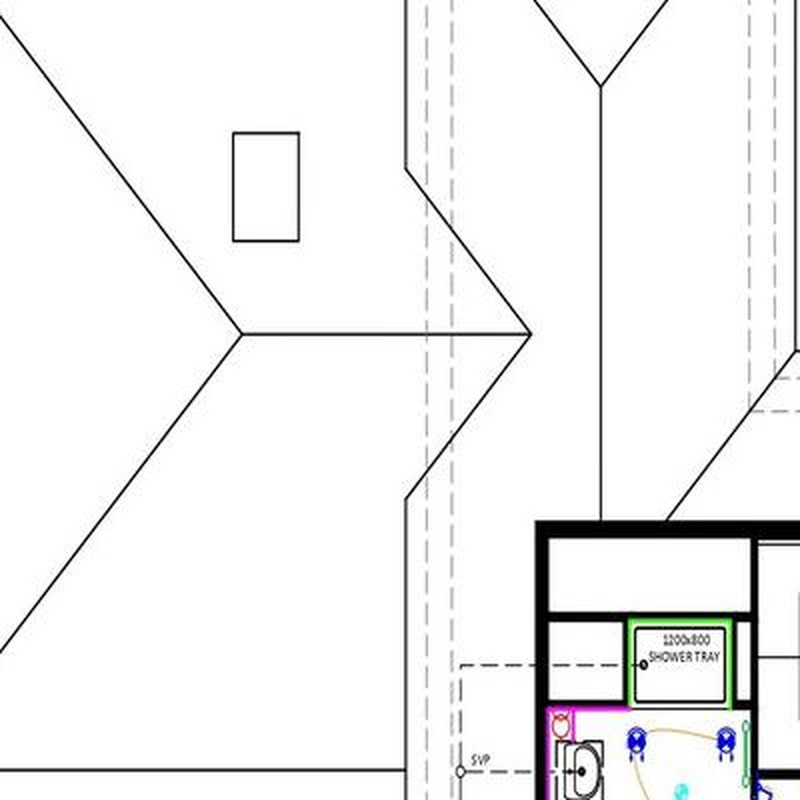Ceiling Mounted Continuous Extract FanWith Boost Mode Activated By Light Switch: (673, 783, 687, 799)
Full Height Tiling: (628, 619, 732, 710)
Light Switch: (758, 785, 775, 800)
Low Energy Downlighter: (626, 727, 647, 763), (716, 727, 736, 763)
Shaver Socket: (549, 708, 572, 741)
